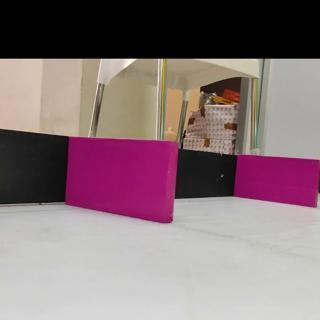xparking: (78, 141, 174, 214), (241, 159, 318, 201)
